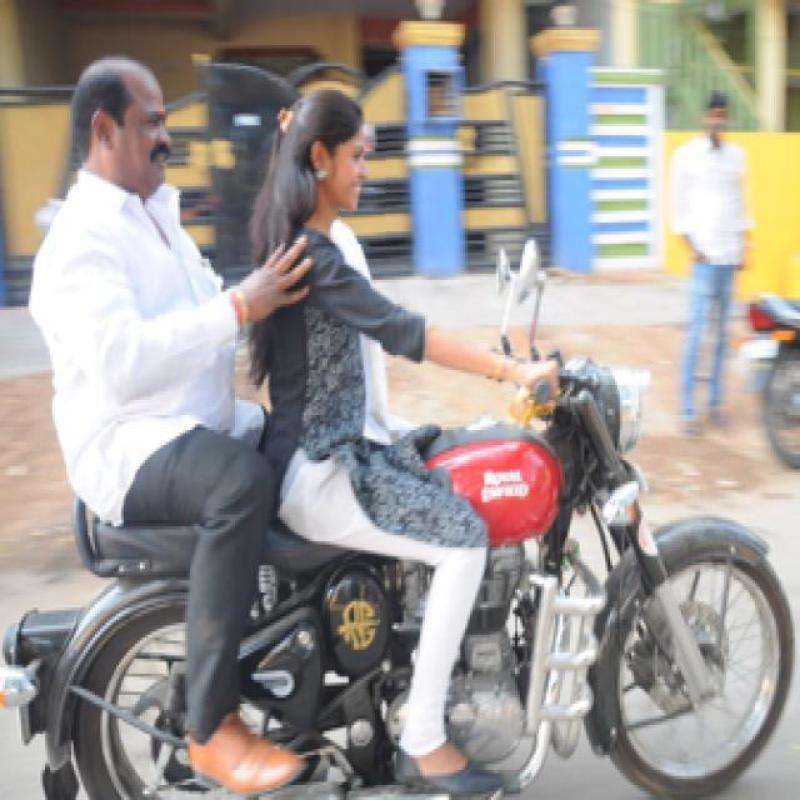nohelmet: (238, 66, 388, 244), (52, 43, 188, 198)
